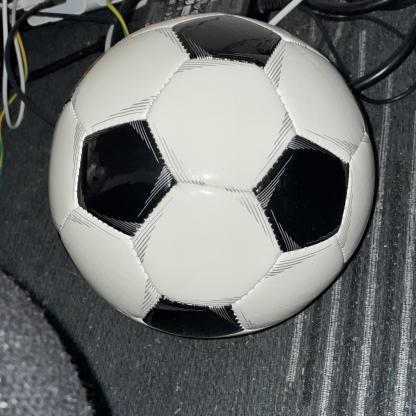ball: (50, 12, 377, 339)
